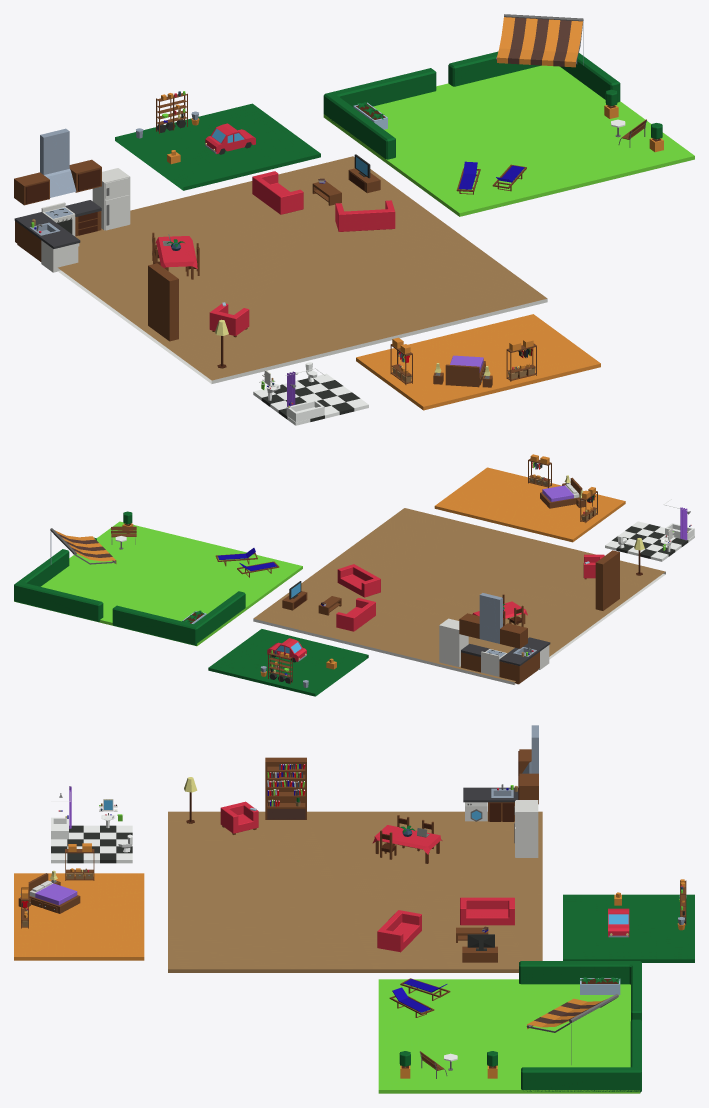
File: house_low.glb
3 views of the same model, one above another, from view 1: azimuth 30°, elevation 25°; view 2: azimuth 150°, elevation 25°; view 3: azimuth 270°, elevation 25° (orthographic). The views are drawn at different scales.
Parts seen in each view (by area): view 1: WC_floor; view 2: WC_floor; view 3: WC_floor, books.
Part boxes in pixels (<box>): WC_floor: <box>14,14,694,425</box>; WC_floor: <box>14,454,694,696</box>; WC_floor: <box>14,725,694,1093</box>; books: <box>250,772,620,994</box>.
Bounding box in the file's own units: 56.67 × 9.61 × 58.04.
2 materials, 2 textured.
